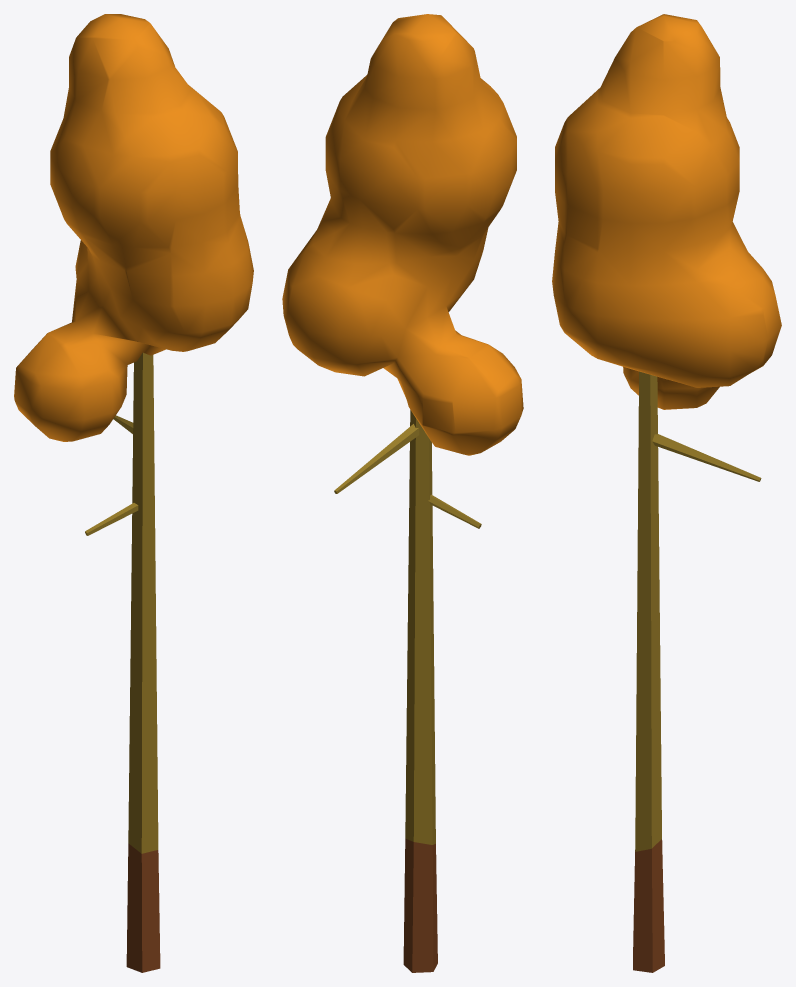
Rendered from PINE.fbx.
3 views of the same model, side by side, from view 1: azimuth 30°, elevation 25°; view 2: azimuth 150°, elevation 25°; view 3: azimuth 270°, elevation 25° (orthographic). The views are drawn at different scales.
Visible parts, largest first — view 1: Mball, Cylinder; view 2: Mball, Cylinder; view 3: Mball, Cylinder.
Boxes of the visible parts, x1,y1,x2,y2 form: Mball: (14, 14, 253, 441); Cylinder: (85, 352, 160, 972); Mball: (282, 14, 523, 455); Cylinder: (334, 410, 481, 972); Mball: (552, 14, 781, 409); Cylinder: (633, 371, 761, 972).
Size of the model in its own units: 764 by 3388 by 749.
